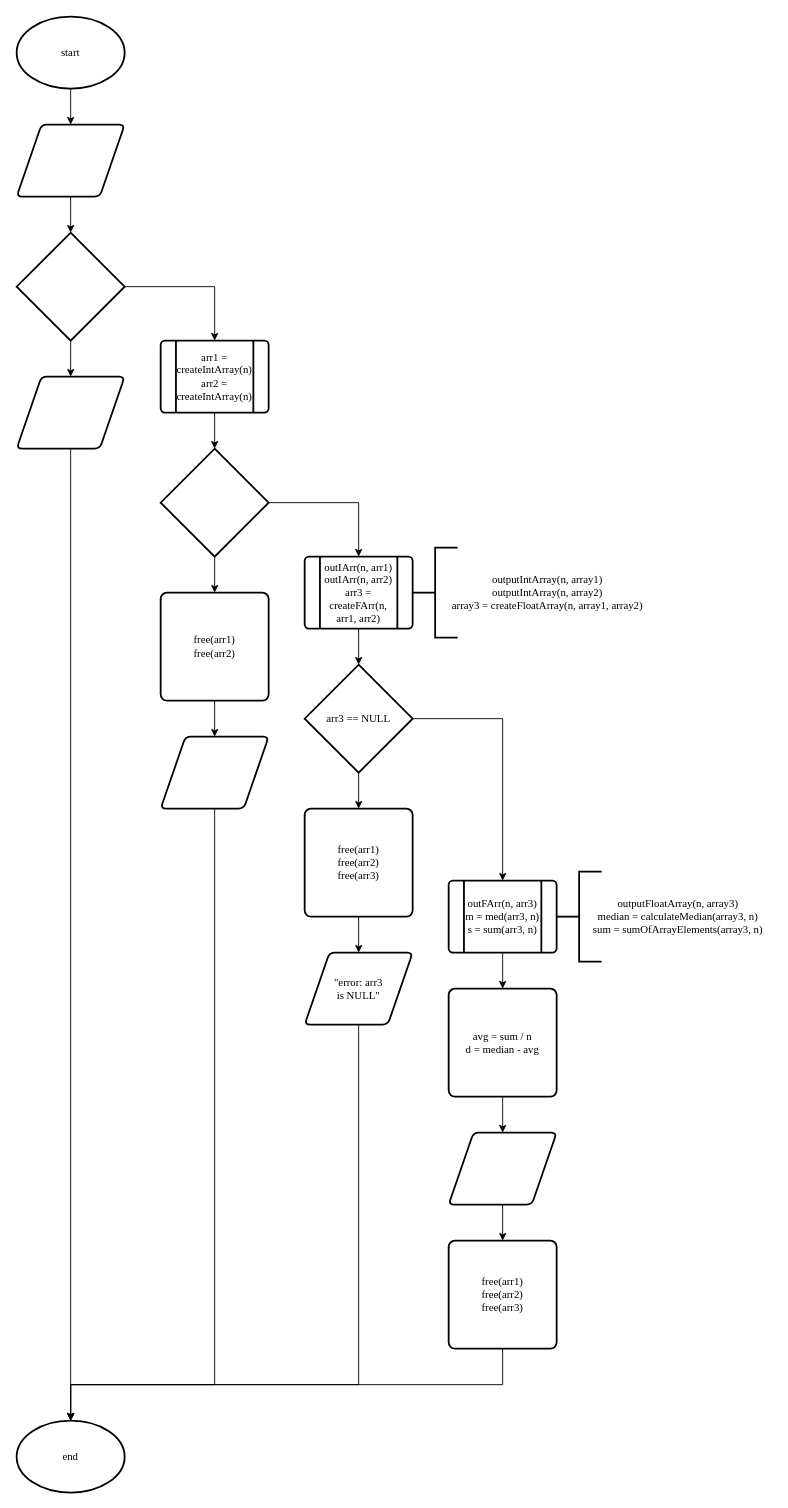
Image size: 788x1508. Some labels were removed from this diagram. The centre of each missing label's shape, as x and y in pixels:
"error: arr1 or arr2 is/ are NULL": the point at 214,772
"error: n > 13": the point at 70,412
arr1 == NULL || arr2 == NULL: the point at 214,502
input n: the point at 70,160
median, avg, d: the point at 502,1168
n > 13: the point at 70,286
